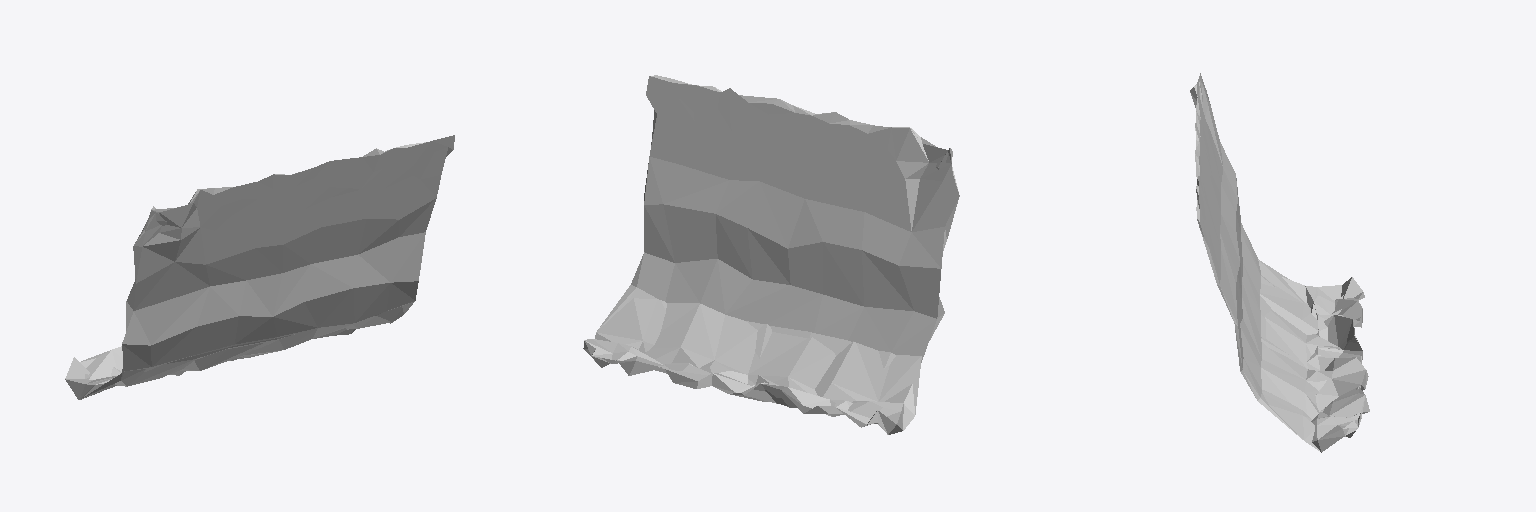
Rendered from art_membrane.obj.
3 renders of one model, left to right at view 1: azimuth 30°, elevation 25°; view 2: azimuth 150°, elevation 25°; view 3: azimuth 270°, elevation 25°, orthographic.
Visible parts, largest first — view 1: art_membrane_Cube; view 2: art_membrane_Cube; view 3: art_membrane_Cube.
Boxes of the visible parts, x1,y1,x2,y2 form: art_membrane_Cube: [65, 135, 454, 399]; art_membrane_Cube: [583, 75, 959, 434]; art_membrane_Cube: [1190, 73, 1369, 452].
Size of the model in its own units: 7.53 by 5.48 by 3.68.